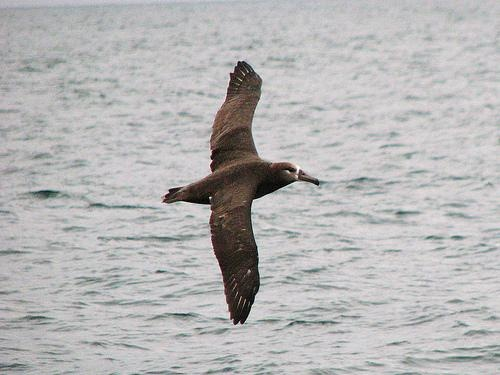bird: (153, 59, 324, 322)
